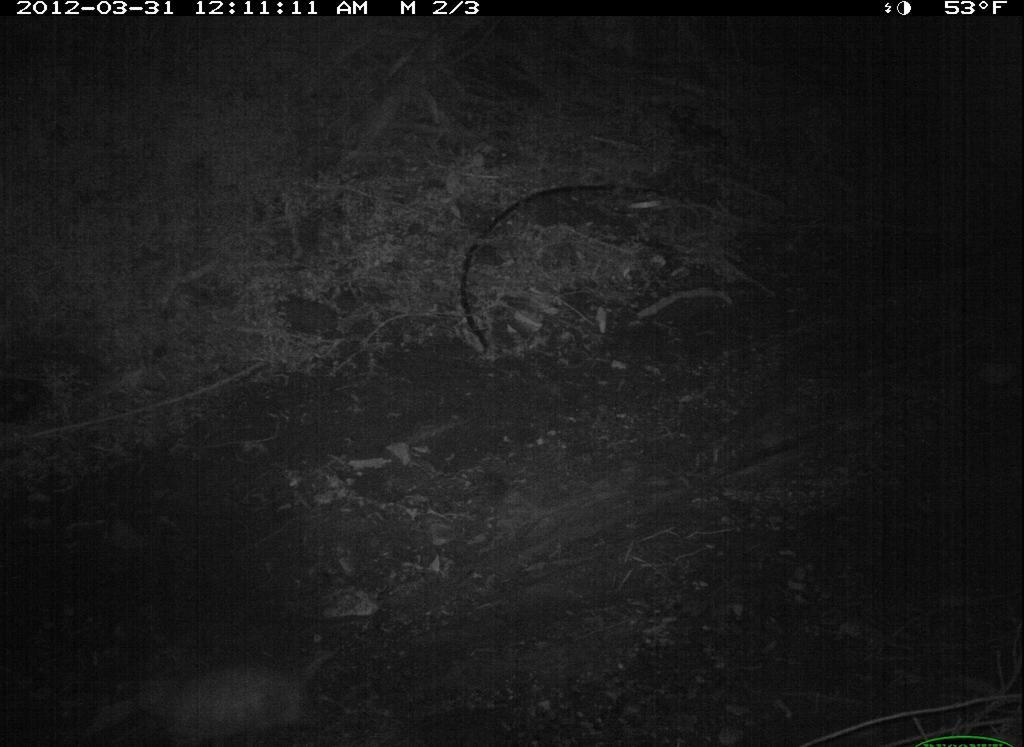opossum: (117, 629, 370, 747)
